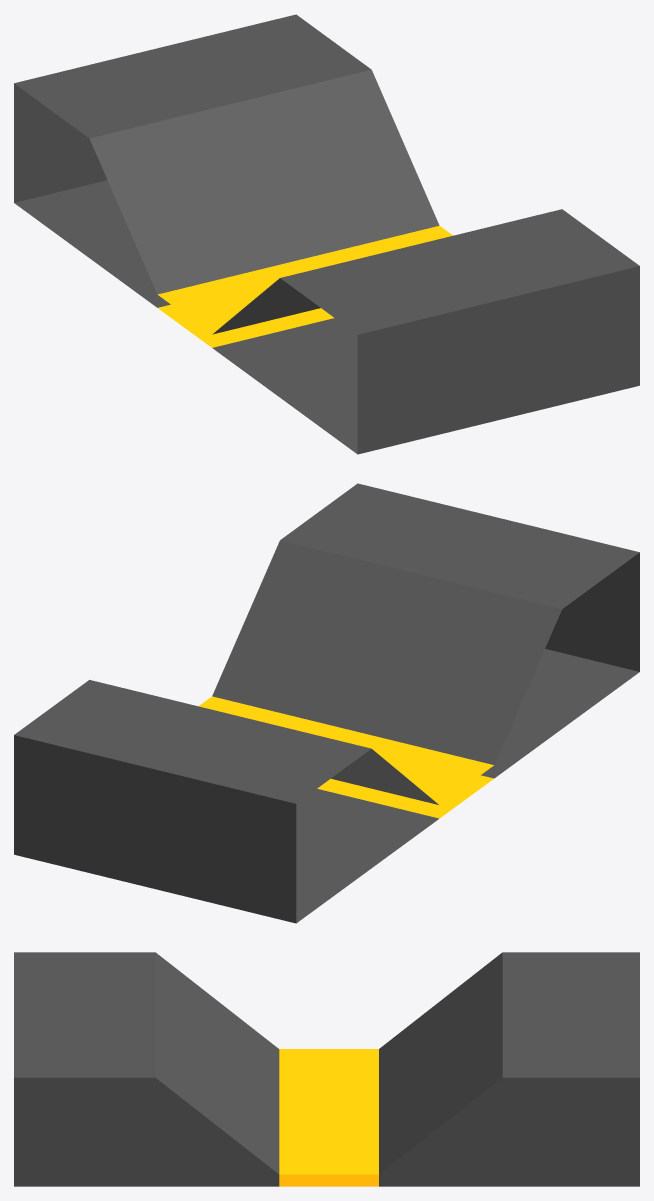
Rendered from Spline_Slip_Trapezoid_2.fbx.
3 views of the same model, one above another, from view 1: azimuth 30°, elevation 25°; view 2: azimuth 150°, elevation 25°; view 3: azimuth 270°, elevation 25° (orthographic). The views are drawn at different scales.
Visible parts, largest first — view 1: Spline_Slip_Trapezoid 2; view 2: Spline_Slip_Trapezoid 2; view 3: Spline_Slip_Trapezoid 2.
Part boxes in pixels (x1,y1,x2,y2): Spline_Slip_Trapezoid 2: (14,14,639,454); Spline_Slip_Trapezoid 2: (14,483,639,923); Spline_Slip_Trapezoid 2: (14,952,639,1186).
Bounding box in the file's own units: 1000 × 405 × 2109.
